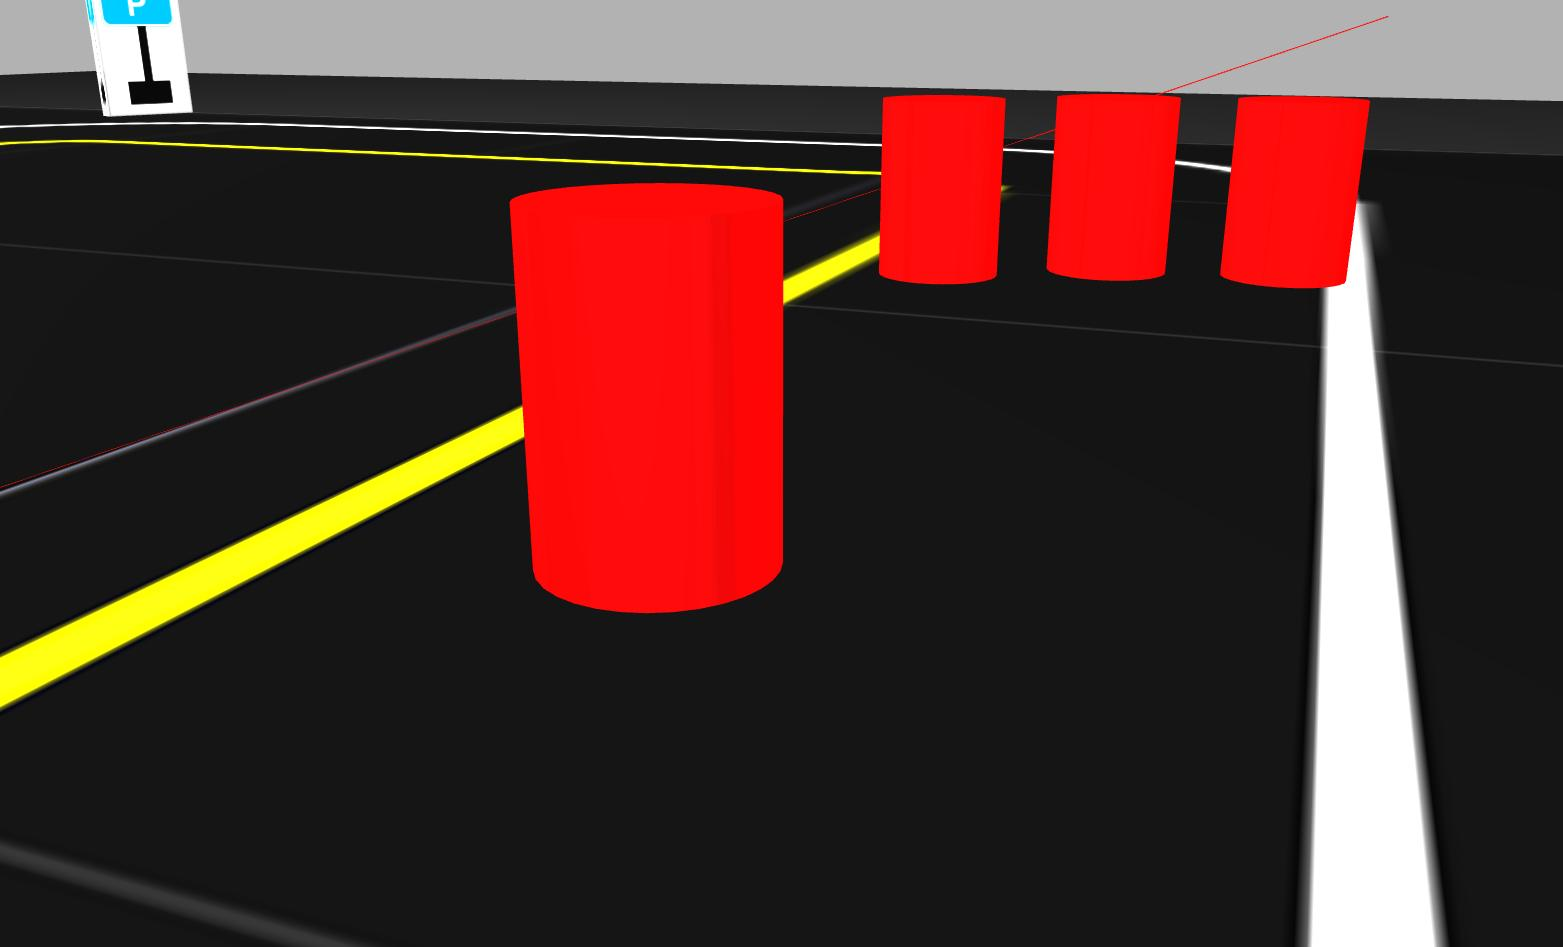obstacle: (509, 178, 799, 618), (1217, 90, 1377, 295), (1038, 92, 1178, 289), (878, 93, 1003, 290)
